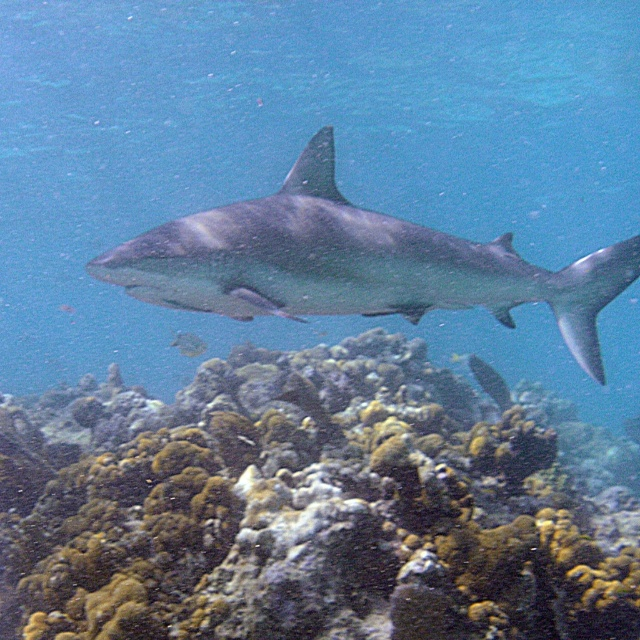Shark: (84, 123, 639, 383)
